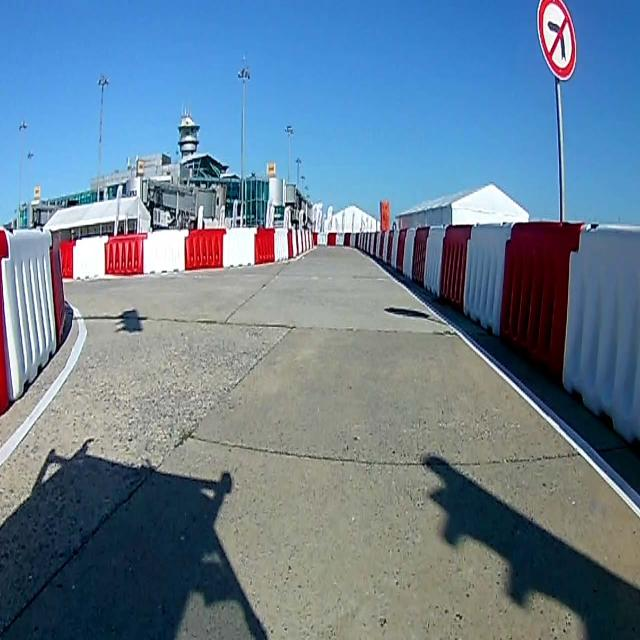soladonulmez: (538, 2, 576, 79)
